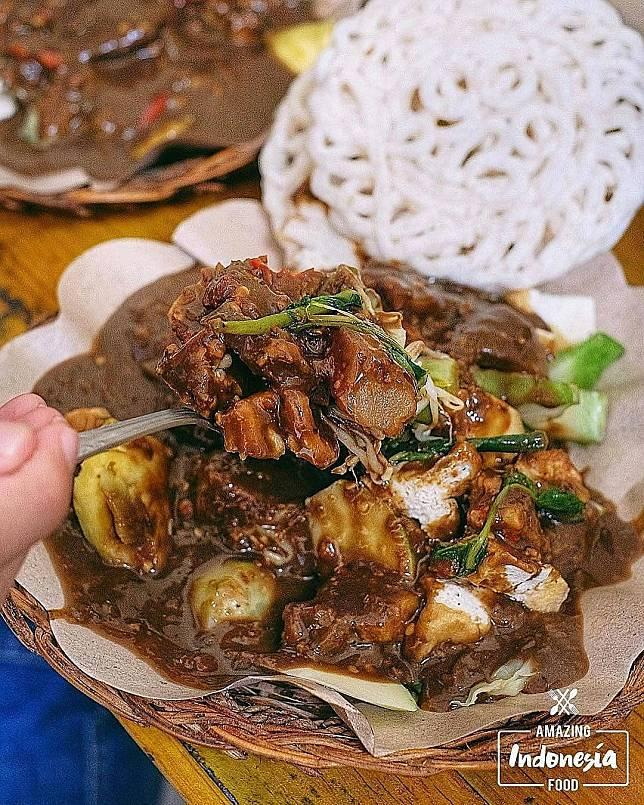rujak_cingur: (76, 259, 624, 672)
